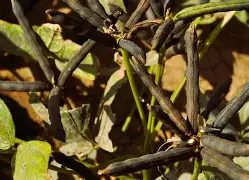crops: (0, 0, 246, 177)
